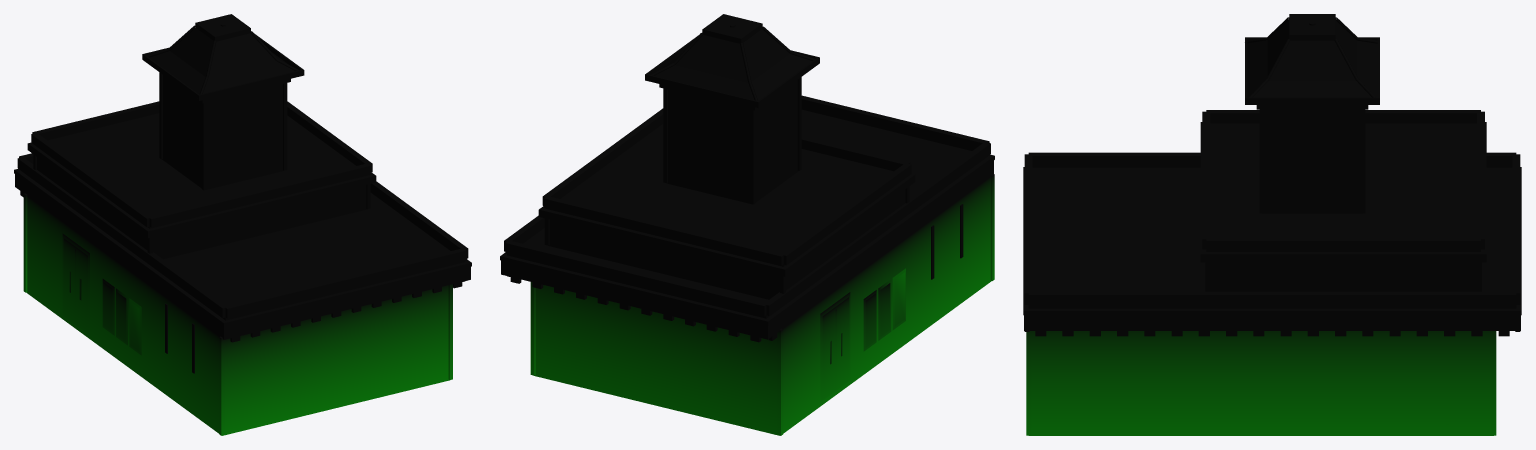
The model's file is l_residenceright.glb.
The picture shows the model from 3 angles, left to right: view 1: azimuth 30°, elevation 25°; view 2: azimuth 150°, elevation 25°; view 3: azimuth 270°, elevation 25°; orthographic projection. The views are drawn at different scales.
Parts seen in each view (by area): view 1: lod0; view 2: lod0; view 3: lod0.
Boxes of the visible parts, <box> form: lod0: <box>14,14,471,435</box>; lod0: <box>500,14,994,435</box>; lod0: <box>1023,14,1521,435</box>.
Size of what is drawn, in the model's own units: 21.4 by 24.2 by 31.2.
